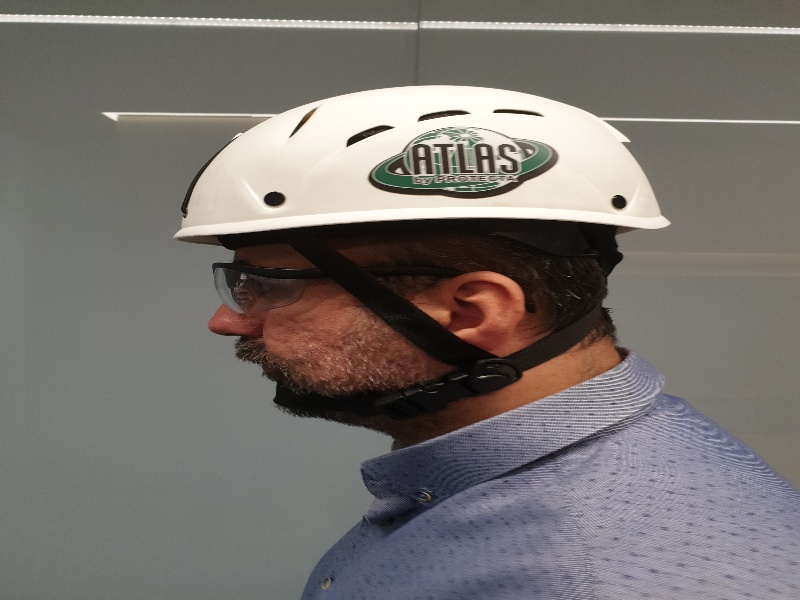Baret: (177, 83, 671, 241)
Gozluk: (210, 261, 471, 318)
